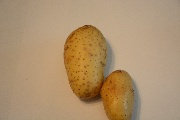potato: (63, 24, 107, 101), (101, 68, 134, 120)
